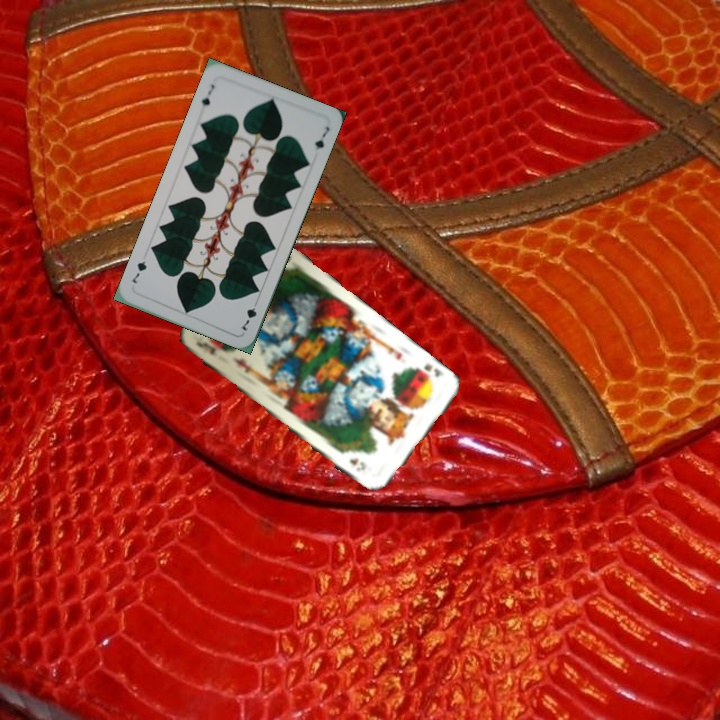G7: (238, 295, 261, 333), (197, 80, 218, 109)
SK: (412, 359, 446, 385), (192, 339, 219, 359)
